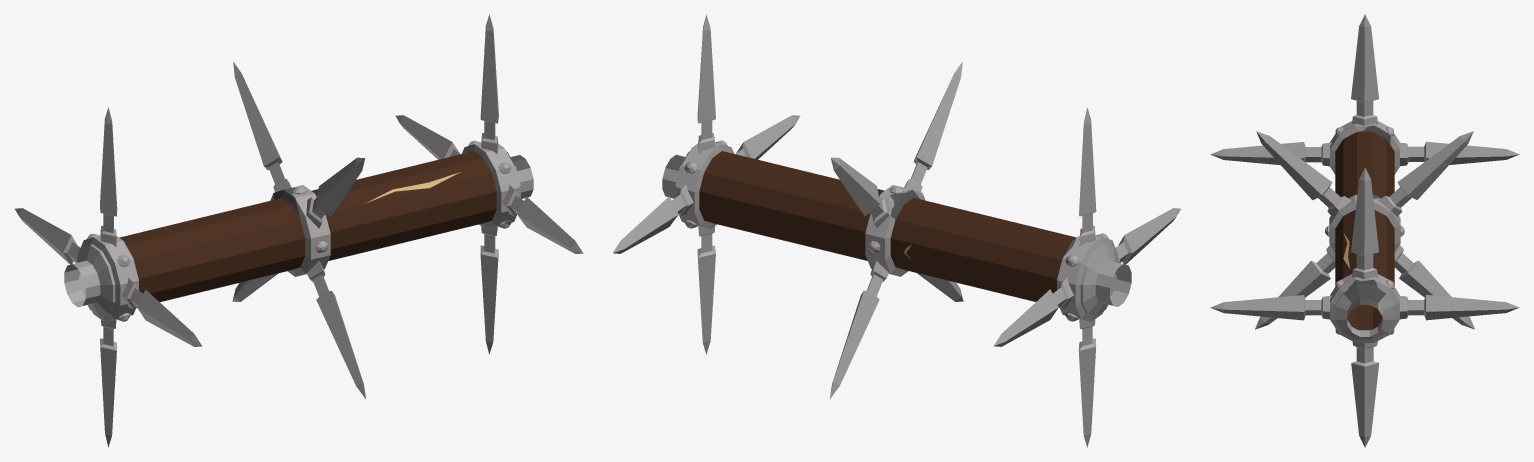
File: H_SpinningSpikeA.fbx
The picture shows the model from 3 angles, left to right: view 1: azimuth 30°, elevation 25°; view 2: azimuth 150°, elevation 25°; view 3: azimuth 270°, elevation 25°; orthographic projection. The views are drawn at different scales.
Parts seen in each view (by area): view 1: H_SpinningSpikeA; view 2: H_SpinningSpikeA; view 3: H_SpinningSpikeA.
Boxes of the visible parts, x1,y1,x2,y2 form: H_SpinningSpikeA: (14,14,583,447); H_SpinningSpikeA: (613,14,1180,447); H_SpinningSpikeA: (1210,14,1519,447).
Bounding box in the file's own units: 545 × 397 × 397.
